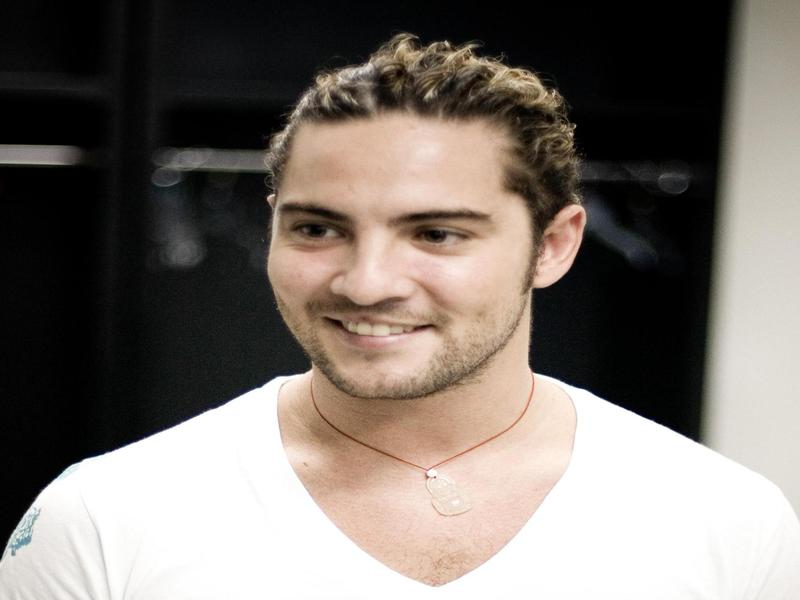person: (4, 30, 787, 600)
